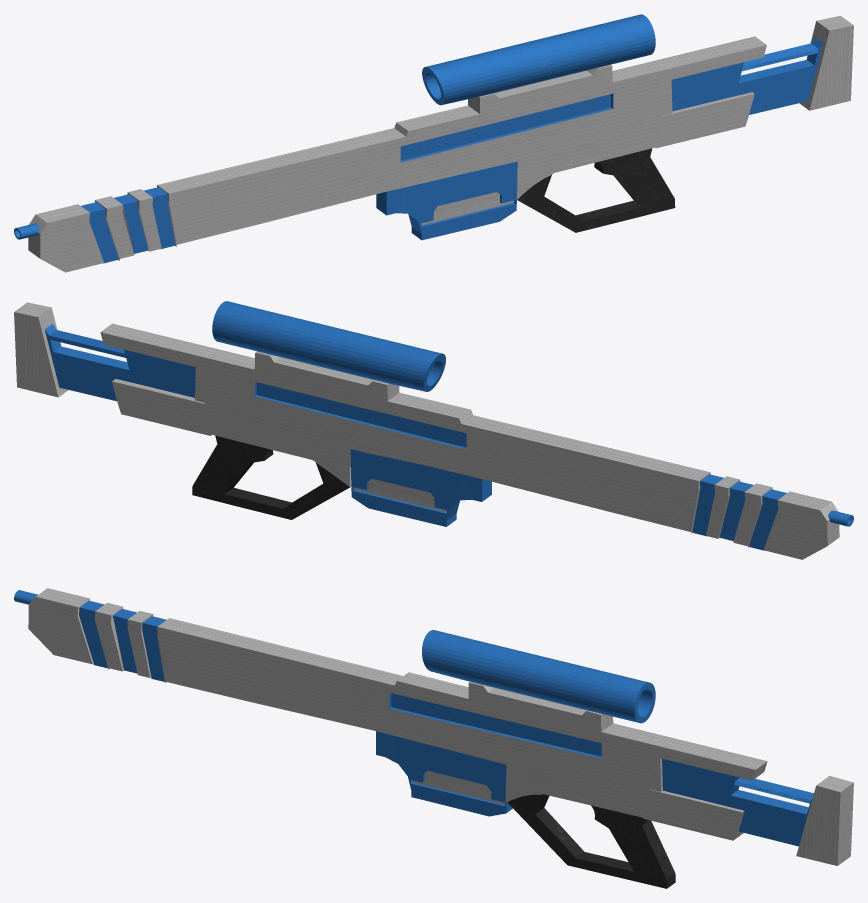
Rendered from gun.fbx.
The picture shows the model from 3 angles, top to bottom: view 1: azimuth 30°, elevation 25°; view 2: azimuth 150°, elevation 25°; view 3: azimuth 330°, elevation 25°; orthographic projection.
Visible parts, largest first — view 1: Corpo, Mira, parte fina, Bipod, Grip, Parte, Estrias, Bipod.001; view 2: Corpo, Mira, parte fina, Bipod, Grip, Parte, Estrias, Bipod.001; view 3: Corpo, Mira, Grip, parte fina, Bipod, Parte, Estrias, Bipod.001.
Part boxes in pixels (x1=…): Corpo: x1=28, y1=16, x2=853, y2=272; Mira: x1=422, y1=14, x2=655, y2=105; parte fina: x1=671, y1=37, x2=822, y2=114; Bipod: x1=376, y1=161, x2=517, y2=240; Grip: x1=517, y1=148, x2=675, y2=232; Parte: x1=400, y1=93, x2=613, y2=162; Estrias: x1=81, y1=187, x2=175, y2=263; Bipod.001: x1=421, y1=192, x2=513, y2=225; Corpo: x1=14, y1=302, x2=839, y2=559; Mira: x1=212, y1=301, x2=445, y2=391; parte fina: x1=45, y1=324, x2=195, y2=401; Bipod: x1=350, y1=449, x2=491, y2=526; Grip: x1=192, y1=435, x2=350, y2=519; Parte: x1=254, y1=382, x2=466, y2=449; Estrias: x1=692, y1=474, x2=786, y2=550; Bipod.001: x1=354, y1=478, x2=446, y2=511; Corpo: x1=28, y1=588, x2=853, y2=865; Mira: x1=422, y1=630, x2=655, y2=723; Grip: x1=507, y1=794, x2=675, y2=888; parte fina: x1=662, y1=758, x2=813, y2=846; Bipod: x1=376, y1=731, x2=512, y2=816; Parte: x1=389, y1=692, x2=601, y2=758; Estrias: x1=79, y1=600, x2=166, y2=681; Bipod.001: x1=412, y1=770, x2=504, y2=804.
Size of the model in its own units: 463 by 105 by 20.46.
